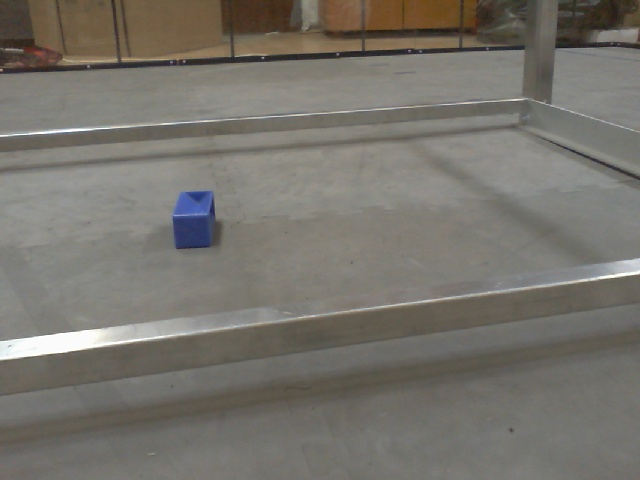BlueSample: (170, 189, 218, 249)
